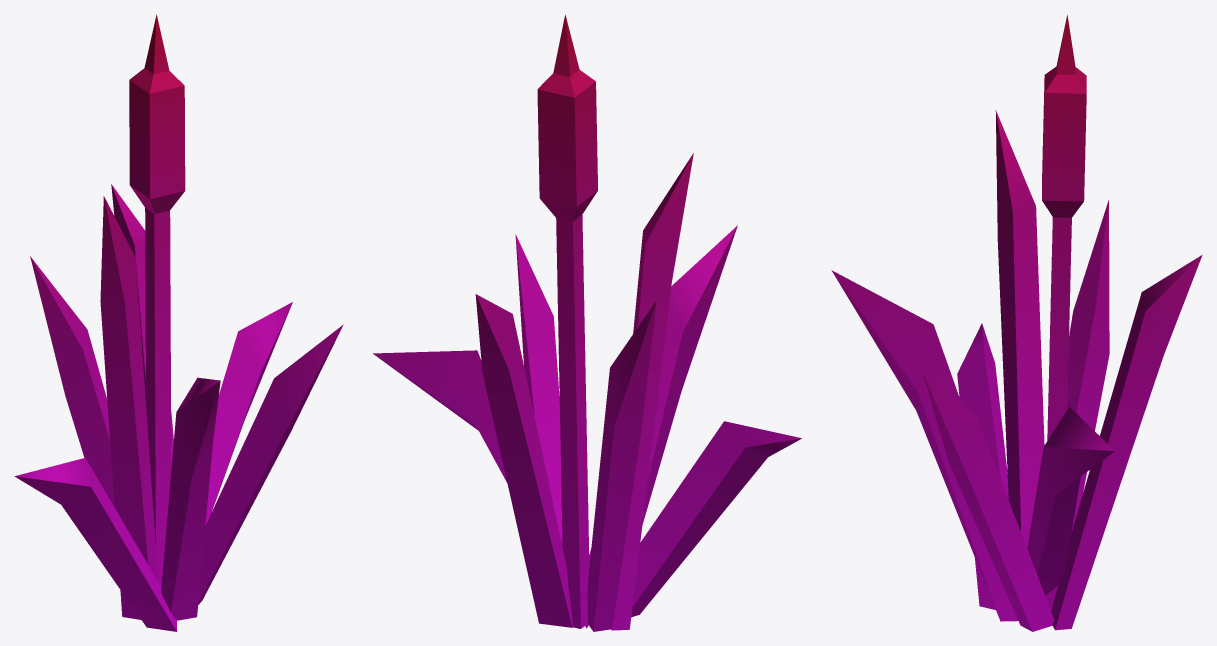
The model's file is SM_Plant_Reeds_01.gltf.
3 views of the same model, side by side, from view 1: azimuth 30°, elevation 25°; view 2: azimuth 150°, elevation 25°; view 3: azimuth 270°, elevation 25° (orthographic). The views are drawn at different scales.
Visible parts, largest first — view 1: SM_Plant_Reeds_01; view 2: SM_Plant_Reeds_01; view 3: SM_Plant_Reeds_01.
Part boxes in pixels (box(x1,y1,x2,y2)): SM_Plant_Reeds_01: box(14, 14, 343, 631); SM_Plant_Reeds_01: box(373, 15, 801, 631); SM_Plant_Reeds_01: box(831, 15, 1202, 631).
Bounding box in the file's own units: 0.8319 × 1.35 × 0.7516.
